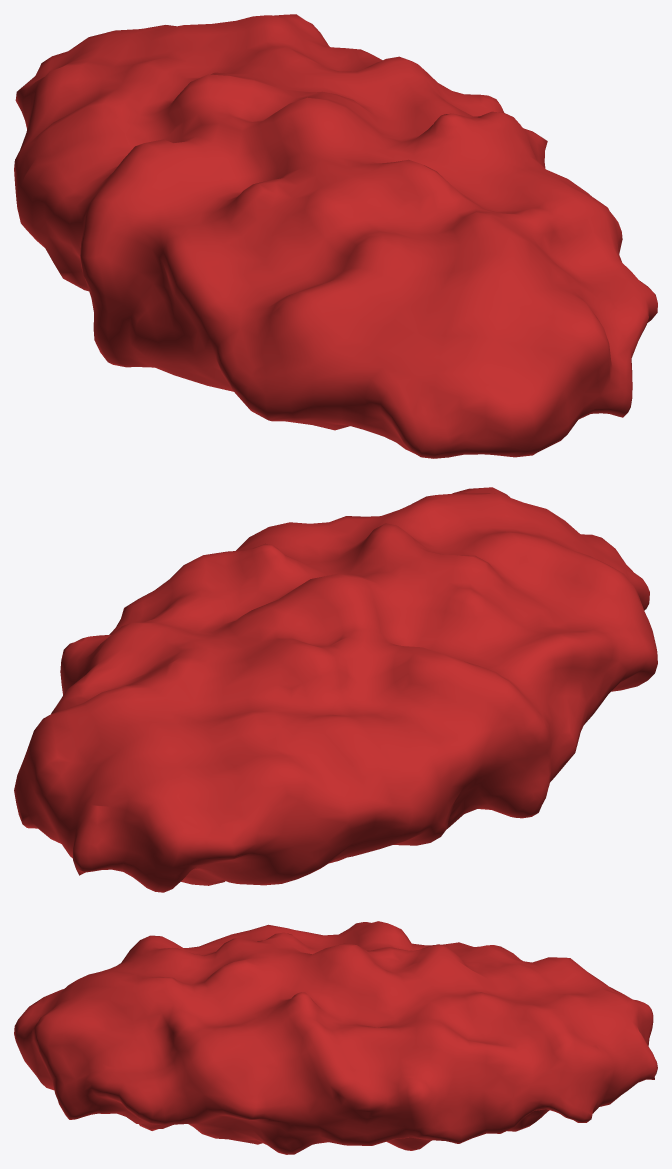
3 views of the same model, one above another, from view 1: azimuth 30°, elevation 25°; view 2: azimuth 150°, elevation 25°; view 3: azimuth 270°, elevation 25° (orthographic). The views are drawn at different scales.
Parts seen in each view (by area): view 1: Cloud_3; view 2: Cloud_3; view 3: Cloud_3.
Part boxes in pixels (box(x1,y1,x2,y2)): Cloud_3: box(14, 14, 657, 458); Cloud_3: box(14, 487, 657, 892); Cloud_3: box(14, 921, 657, 1154).
Bounding box in the file's own units: 119 × 63.05 × 206.
